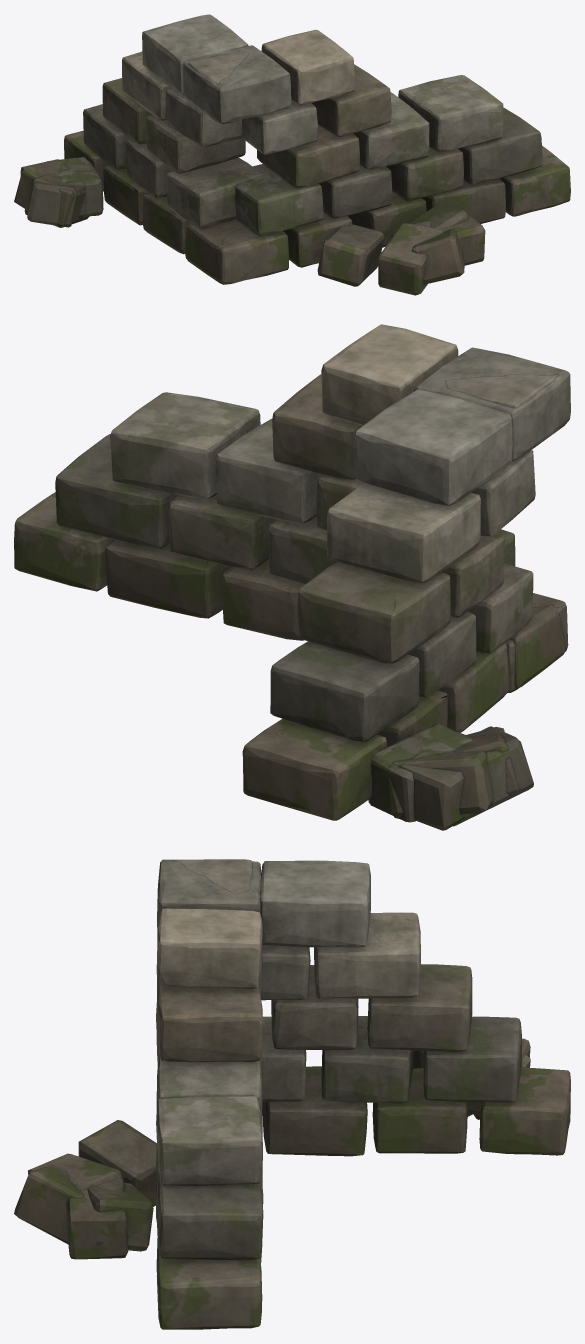
File: costa_ruina_L_p.glb
3 renders of one model, top to bottom at view 1: azimuth 30°, elevation 25°; view 2: azimuth 150°, elevation 25°; view 3: azimuth 270°, elevation 25°, orthographic. The views are drawn at different scales.
Visible parts, largest first — view 1: costa_ruina_L_p_tronco; view 2: costa_ruina_L_p_tronco; view 3: costa_ruina_L_p_tronco.
Part boxes in pixels (x1,y1,x2,y2): costa_ruina_L_p_tronco: (14, 14, 570, 295); costa_ruina_L_p_tronco: (14, 324, 570, 830); costa_ruina_L_p_tronco: (14, 859, 570, 1329).
Bounding box in the file's own units: 4.28 × 2.01 × 3.7.
Materials: 1 (1 with a texture image).
